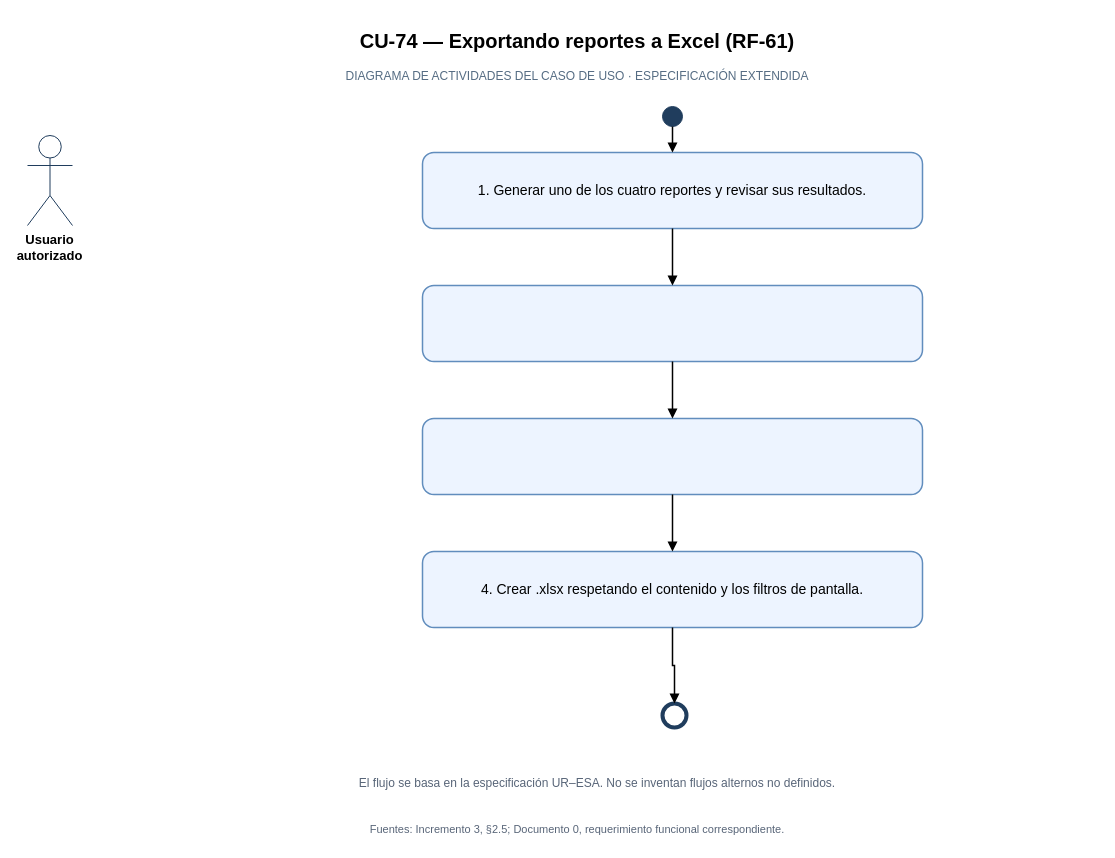
The diagram is 1115 pixels wide and 858 high, and some of its shapes have lost their labels. Here are the shapes that lost their labels. From the top down, the centre of each, then its label:
[672,323]: 2. Comprobar que el reporte contiene resultados.
[672,456]: 3. Solicitar la exportación a Excel.
